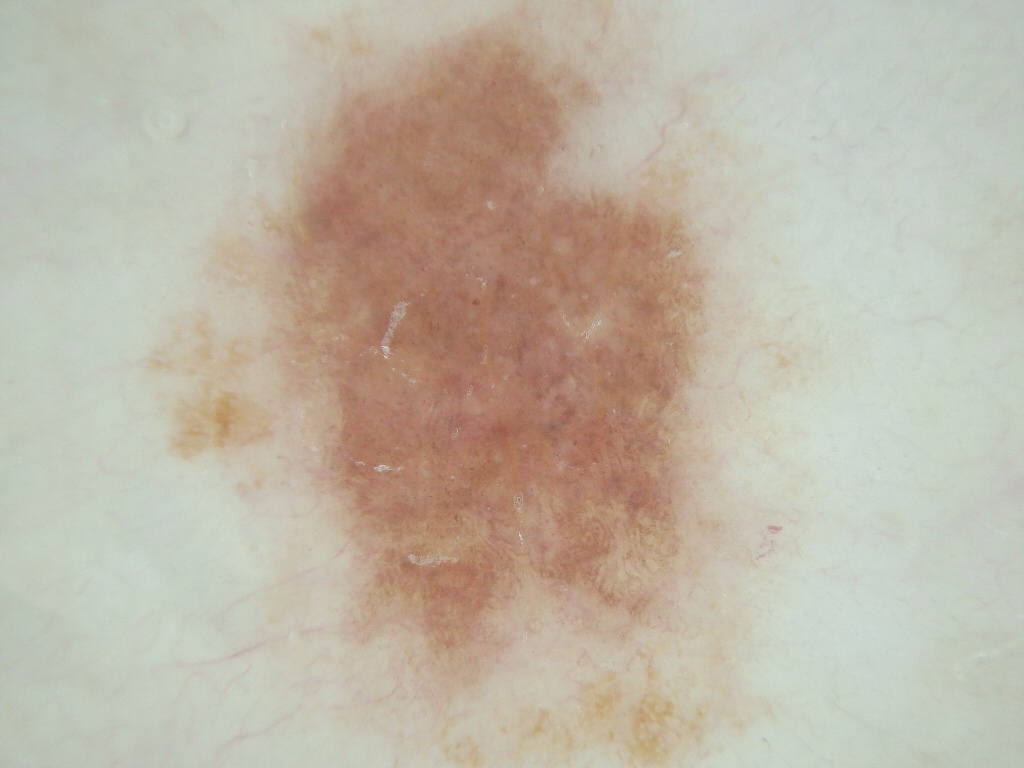Detected Lesion: (152, 1, 796, 768)
